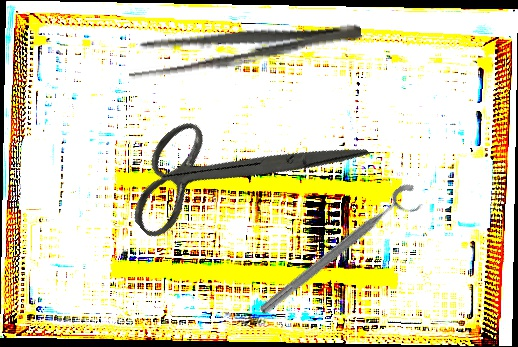Dressing Forceps: (124, 9, 364, 84)
Fixation Ring: (255, 179, 429, 328)
Iris Scissors: (105, 41, 371, 302)
